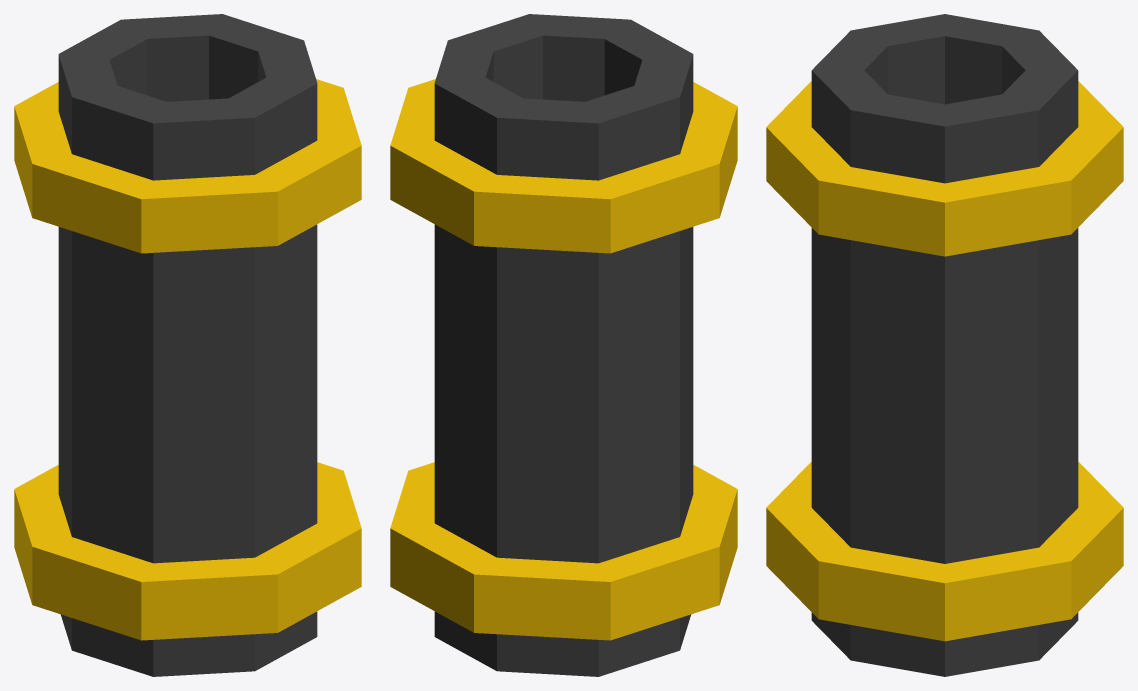
The model's file is Cable.fbx.
3 views of the same model, side by side, from view 1: azimuth 30°, elevation 25°; view 2: azimuth 150°, elevation 25°; view 3: azimuth 270°, elevation 25° (orthographic).
Visible parts, largest first — view 1: Circle; view 2: Circle; view 3: Circle.
Part boxes in pixels (left/top/right/bottom): Circle: left=14, top=14, right=361, bottom=676; Circle: left=390, top=14, right=737, bottom=676; Circle: left=766, top=14, right=1123, bottom=676.
Bounding box in the file's own units: 268 × 456 × 268.
